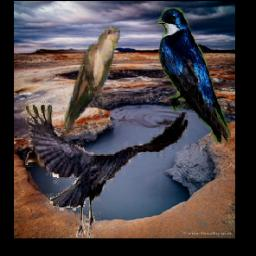Crow: (23, 102, 188, 238)
Cuckoo: (61, 26, 120, 134)
Swallow: (158, 8, 232, 145)
